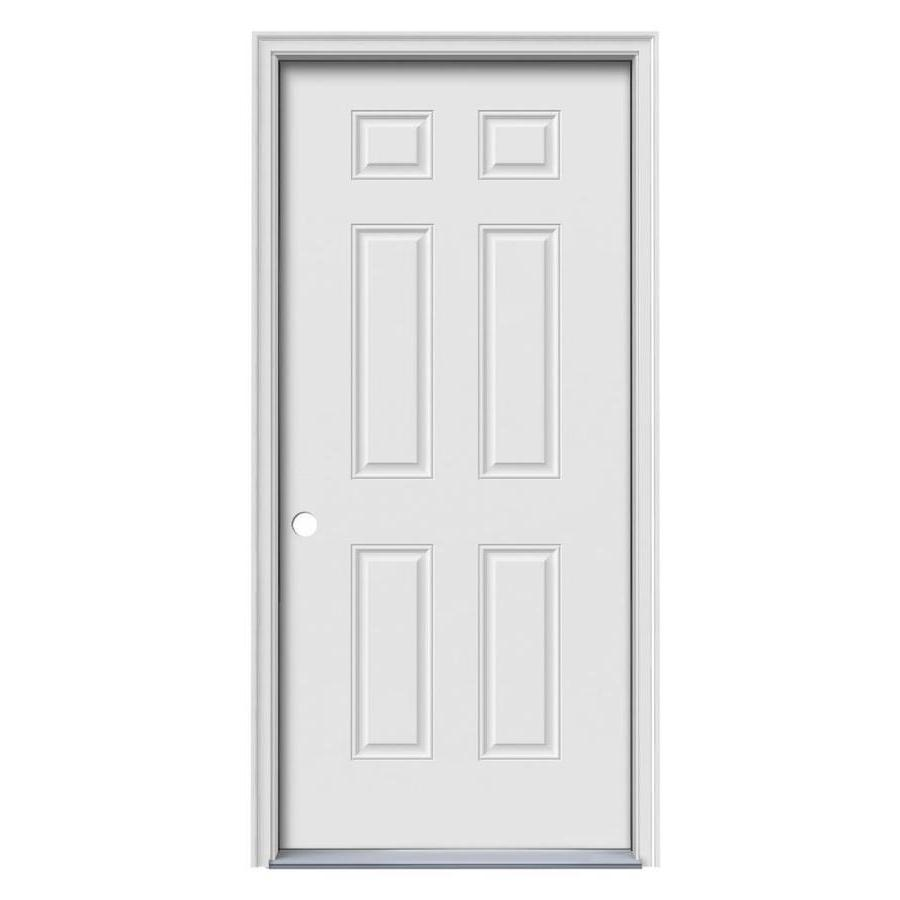door: (265, 36, 647, 848)
